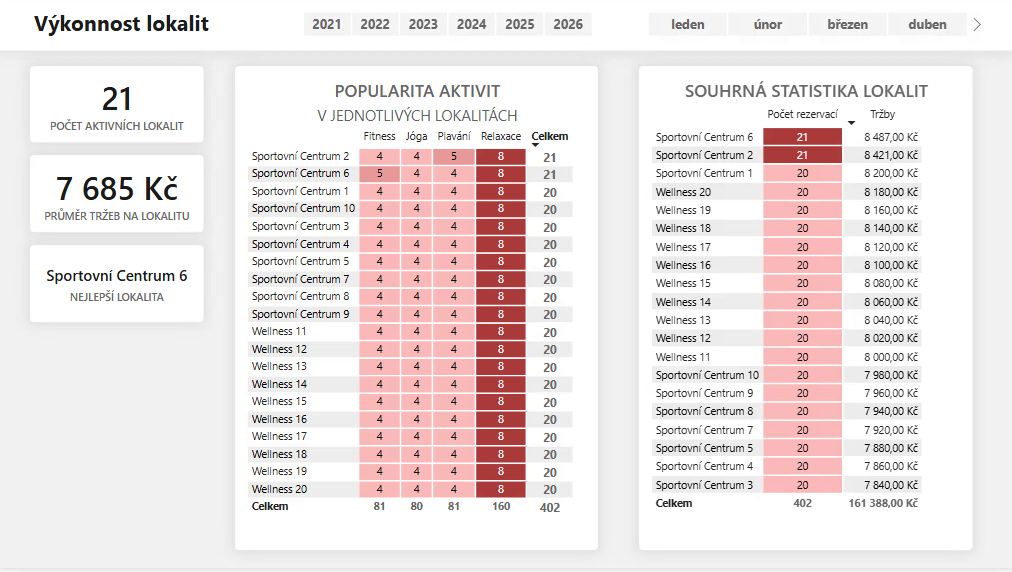

This screenshot's page, from the dashboard's own definition file:
{"tool":"powerbi","page":{"name":"Výkonnost lokalit","canvas":[1280,720],"ordinal":1},"visuals":[{"type":"pivotTable","title":"POPULARITA AKTIVIT","fields":{"Rows":["Lokality.Nazev"],"Columns":["Aktivity.Nazev"],"Values":["CountNonNull(Rezervace.RezervaceID)"]},"box":[297.5,88.7,456.2,607.8],"z":0},{"type":"shape","box":[0,0,1280,69.6],"z":2000},{"type":"textbox","box":[39.6,10.8,317.9,49.2],"z":3000},{"type":"card","title":"UNIKÁTNÍ KLIENTI","fields":{"Values":["Lokality.PocetPobocek"]},"box":[40.5,88.7,218,96.5],"z":4000},{"type":"card","title":"UNIKÁTNÍ KLIENTI","fields":{"Values":["Rezervace.PrumerTrzebLokalita"]},"box":[40.6,200.9,218,97.2],"z":5000},{"type":"card","title":"UNIKÁTNÍ KLIENTI","fields":{"Values":["Lokality.NejlepsiLokalita"]},"box":[40.6,314.1,218,97.2],"z":6000},{"type":"slicer","title":"ROK","fields":{"Values":["Kalendar.Rok Hierarchy.Rok"]},"box":[358.1,15.4,411.6,41.2],"z":7000},{"type":"slicer","title":"ROK","fields":{"Values":["Kalendar.Rok Hierarchy.Měsíc"]},"box":[791.3,15.4,449.6,40.1],"z":8000},{"type":"pivotTable","title":"SOUHRNNÁ STATISTIKA LOKALIT","fields":{"Values":["CountNonNull(Rezervace.RezervaceID)","Sum(Rezervace.Cena)"],"Rows":["Lokality.Nazev"]},"box":[805.2,88.7,419,607.8],"z":9000}]}

Visuals, with their boxes in screenshot pixels (x1, y1, x2, y2), scaled from the page's 1280x720 canvas onto the 1012x572 screenshot:
"POPULARITA AKTIVIT" pivotTable: x1=235 y1=70 x2=596 y2=553
shape: x1=0 y1=0 x2=1011 y2=55
textbox: x1=31 y1=9 x2=283 y2=48
"UNIKÁTNÍ KLIENTI" card: x1=32 y1=70 x2=204 y2=147
"UNIKÁTNÍ KLIENTI" card: x1=32 y1=160 x2=204 y2=237
"UNIKÁTNÍ KLIENTI" card: x1=32 y1=250 x2=204 y2=327
"ROK" slicer: x1=283 y1=12 x2=609 y2=45
"ROK" slicer: x1=626 y1=12 x2=981 y2=44
"SOUHRNNÁ STATISTIKA LOKALIT" pivotTable: x1=637 y1=70 x2=968 y2=553
